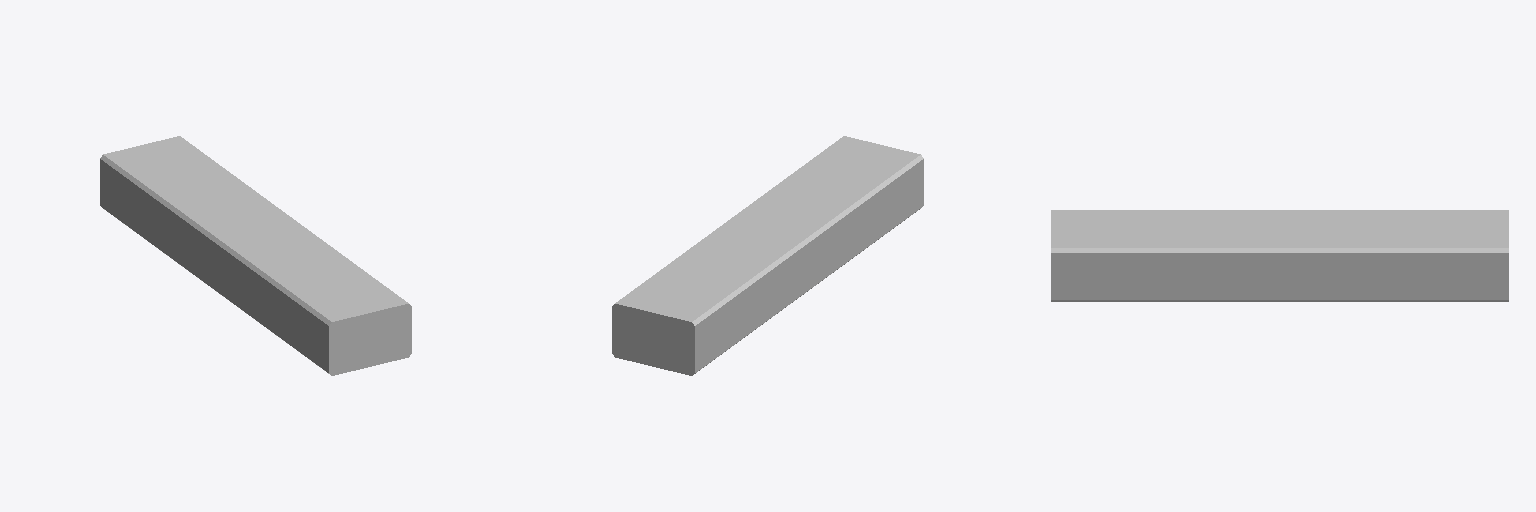
File: factory_rectangular_peg_16mm_loose_subdiv_3x.obj
3 renders of one model, left to right at view 1: azimuth 30°, elevation 25°; view 2: azimuth 150°, elevation 25°; view 3: azimuth 270°, elevation 25°, orthographic.
Visible parts, largest first — view 1: mesh0; view 2: mesh0; view 3: mesh0.
Part boxes in pixels (x1,y1,x2,y2): mesh0: (100, 136, 411, 375); mesh0: (612, 136, 923, 375); mesh0: (1051, 210, 1508, 301).
Bounding box in the file's own units: 0.016 × 0.0099 × 0.0762.